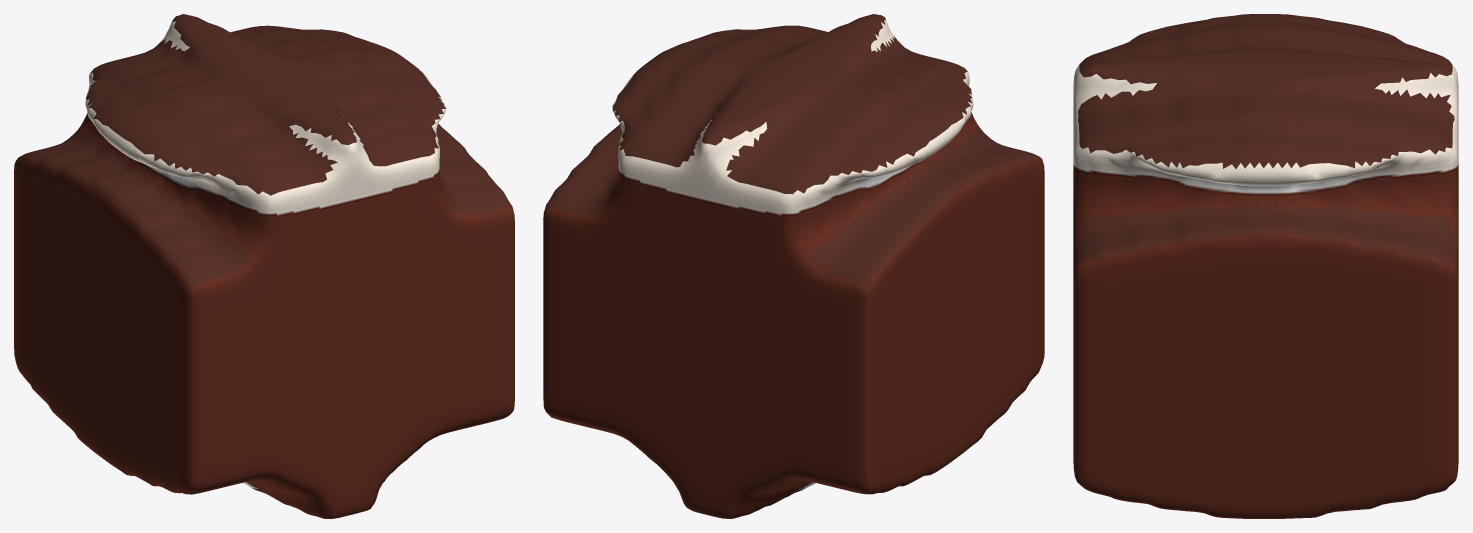
The picture shows the model from 3 angles, left to right: view 1: azimuth 30°, elevation 25°; view 2: azimuth 150°, elevation 25°; view 3: azimuth 270°, elevation 25°; orthographic projection. The views are drawn at different scales.
Visible parts, largest first — view 1: producto; view 2: producto; view 3: producto.
Part boxes in pixels (bbox=[...]): producto: bbox=[14, 14, 514, 518]; producto: bbox=[543, 14, 1044, 518]; producto: bbox=[1073, 14, 1458, 518].
Size of the model in its own units: 0.9126 by 1 by 0.8642.
Materials: 1 (1 with a texture image).
